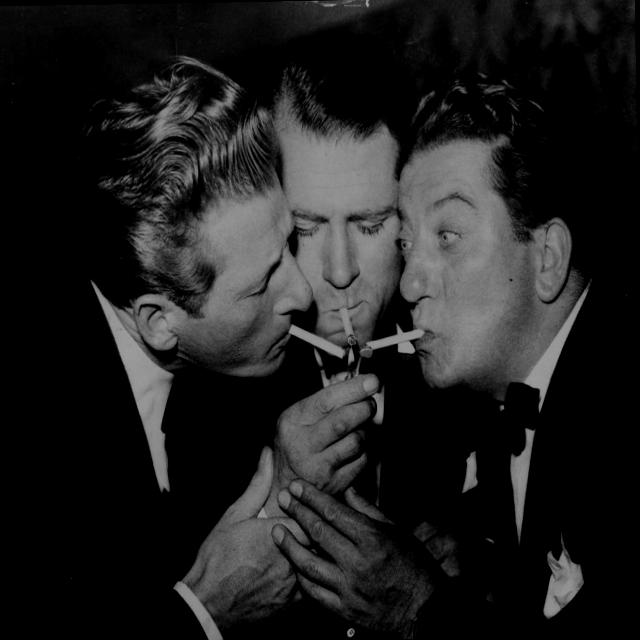smoke: (268, 304, 428, 386)
